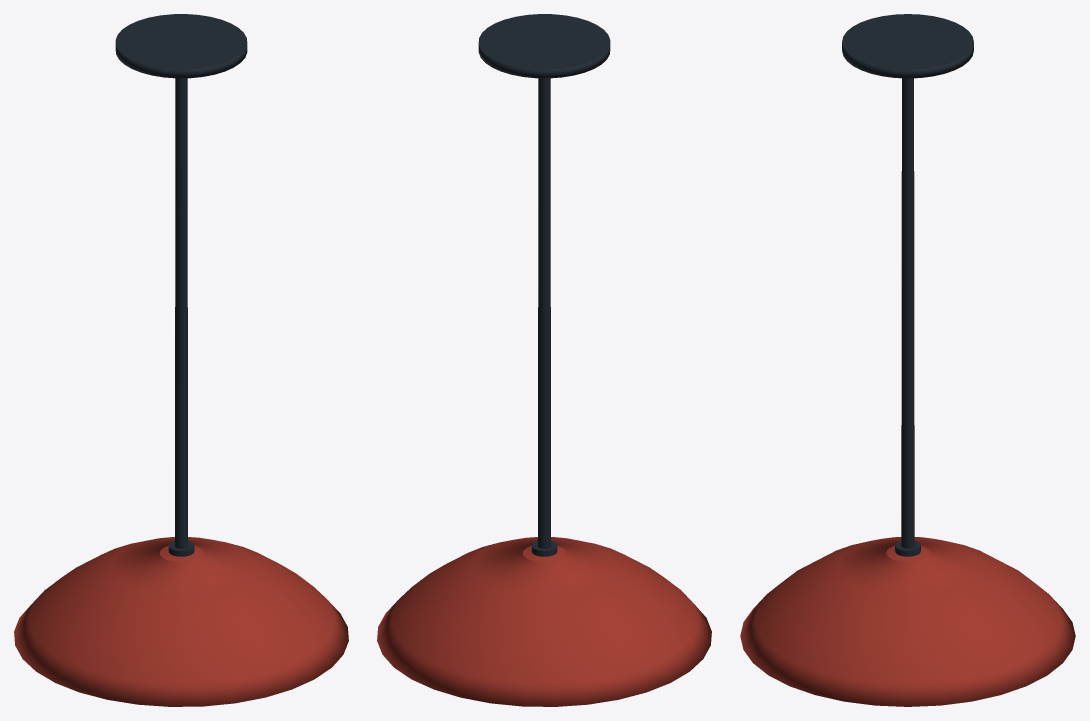
File: hanging_lamp_LONG.fbx
3 renders of one model, left to right at view 1: azimuth 30°, elevation 25°; view 2: azimuth 150°, elevation 25°; view 3: azimuth 270°, elevation 25°, orthographic.
Visible parts, largest first — view 1: hanging_lamp; view 2: hanging_lamp; view 3: hanging_lamp.
Part boxes in pixels (x1,y1,x2,y2): hanging_lamp: [14, 14, 348, 706]; hanging_lamp: [377, 14, 711, 706]; hanging_lamp: [740, 14, 1075, 706].
Bounding box in the file's own units: 269 × 543 × 269.
